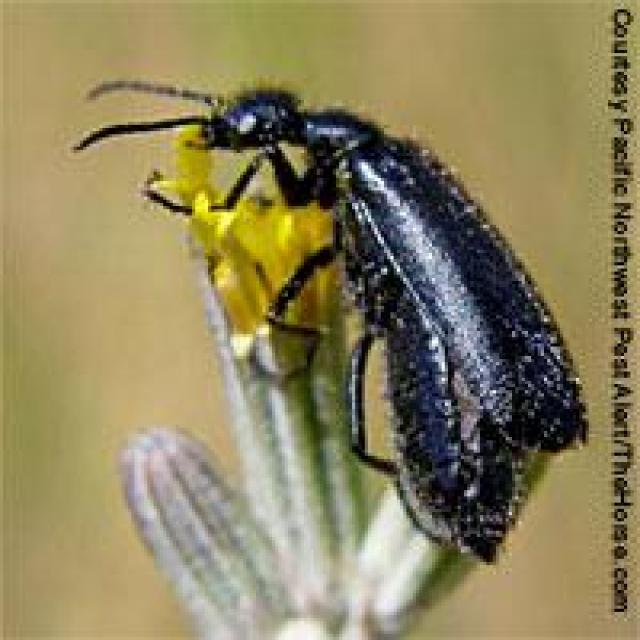BlisterBeetle-Adult-: (54, 62, 597, 458)
